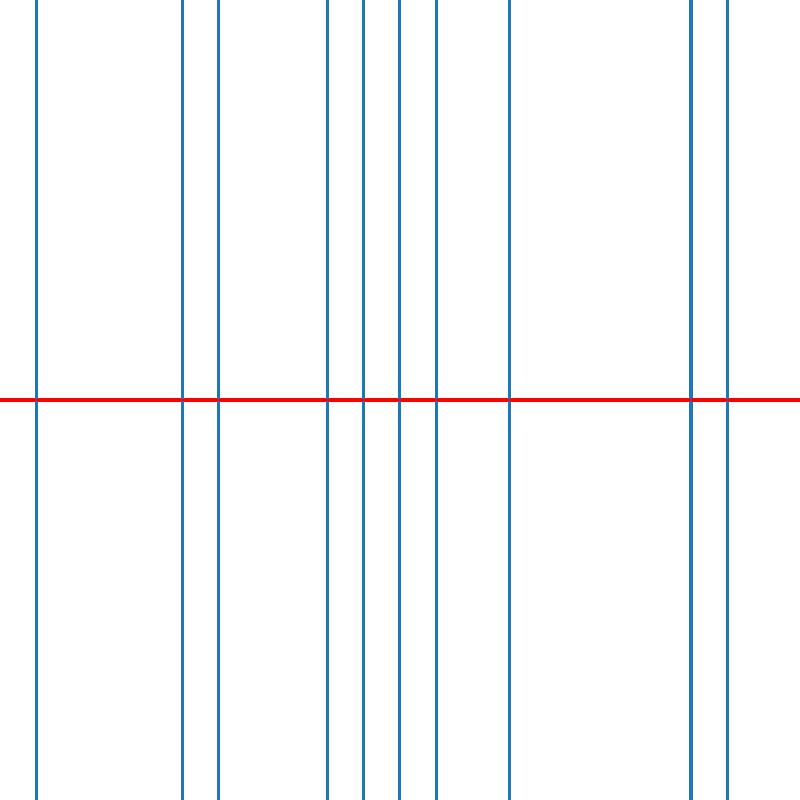root: (32, 396, 40, 404), (432, 396, 440, 404), (214, 396, 221, 404), (505, 396, 512, 404), (723, 396, 730, 404), (396, 396, 403, 404), (323, 396, 330, 404), (178, 396, 185, 404), (360, 396, 367, 404), (687, 396, 694, 404)
